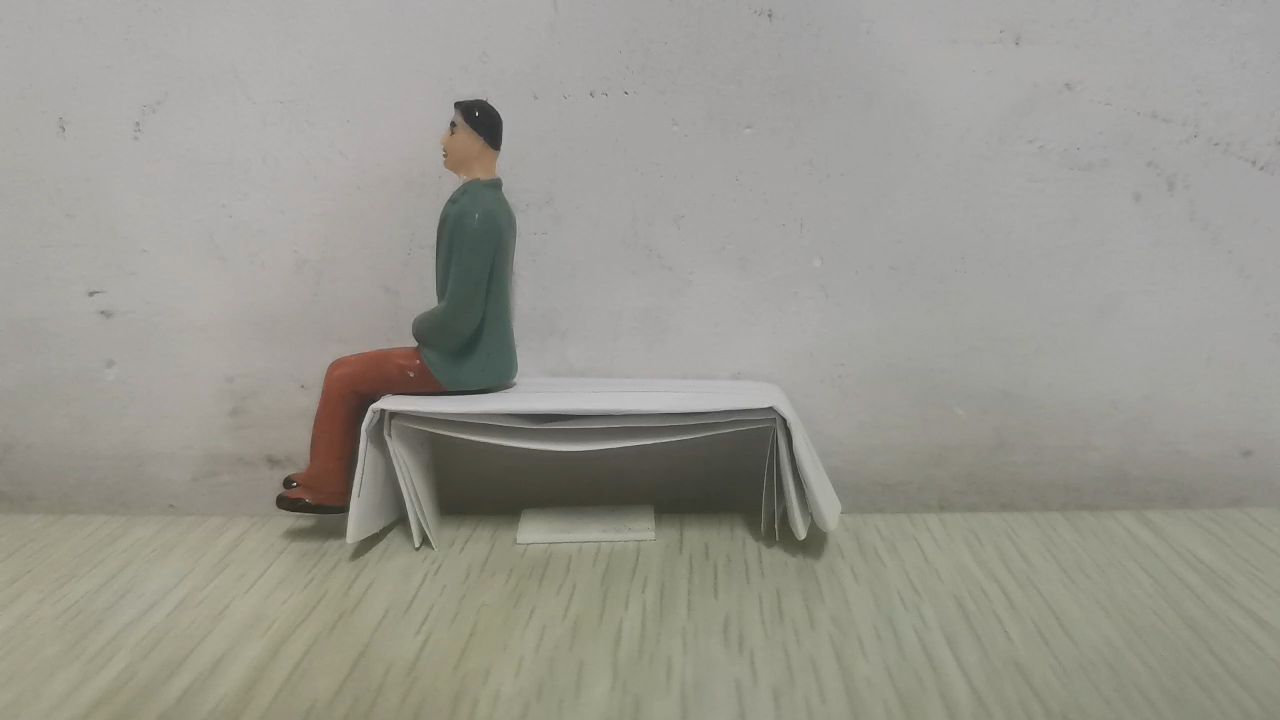person: (273, 100, 521, 516)
